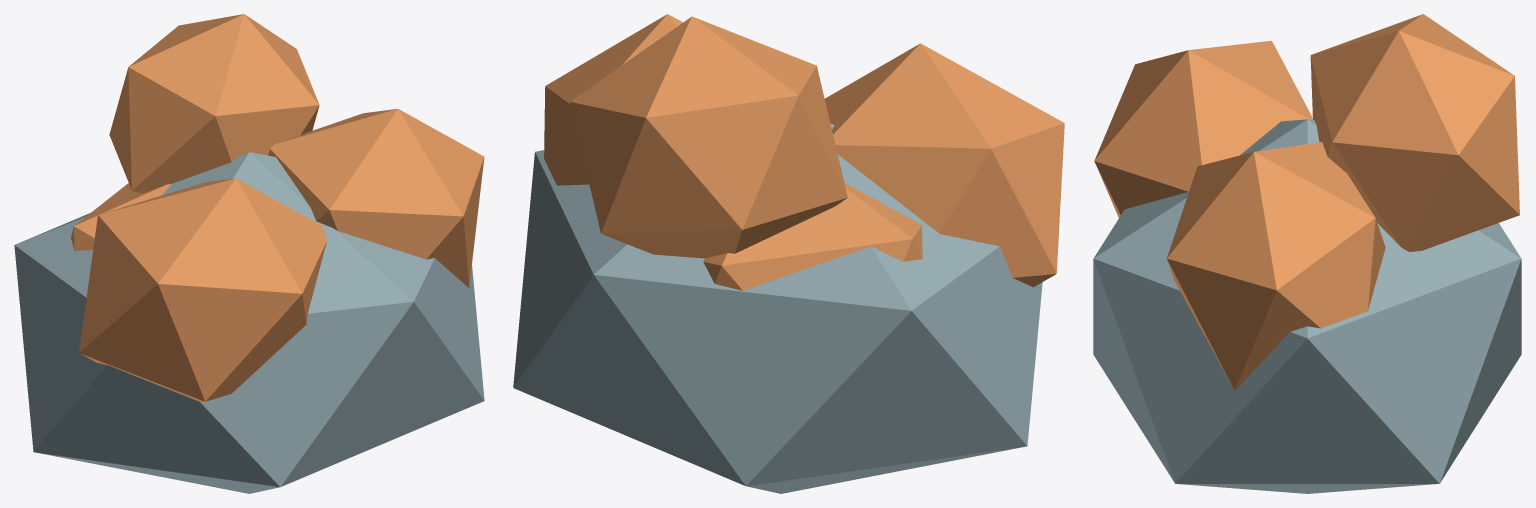
The model's file is resource_copper.glb.
3 renders of one model, left to right at view 1: azimuth 30°, elevation 25°; view 2: azimuth 150°, elevation 25°; view 3: azimuth 270°, elevation 25°, orthographic. The views are drawn at different scales.
Parts seen in each view (by area): view 1: resource_copper; view 2: resource_copper; view 3: resource_copper.
Boxes of the visible parts, x1,y1,x2,y2 form: resource_copper: [14, 14, 484, 493]; resource_copper: [513, 14, 1064, 493]; resource_copper: [1093, 14, 1521, 493].
Size of the model in its own units: 0.6152 by 0.5926 by 0.4764.
